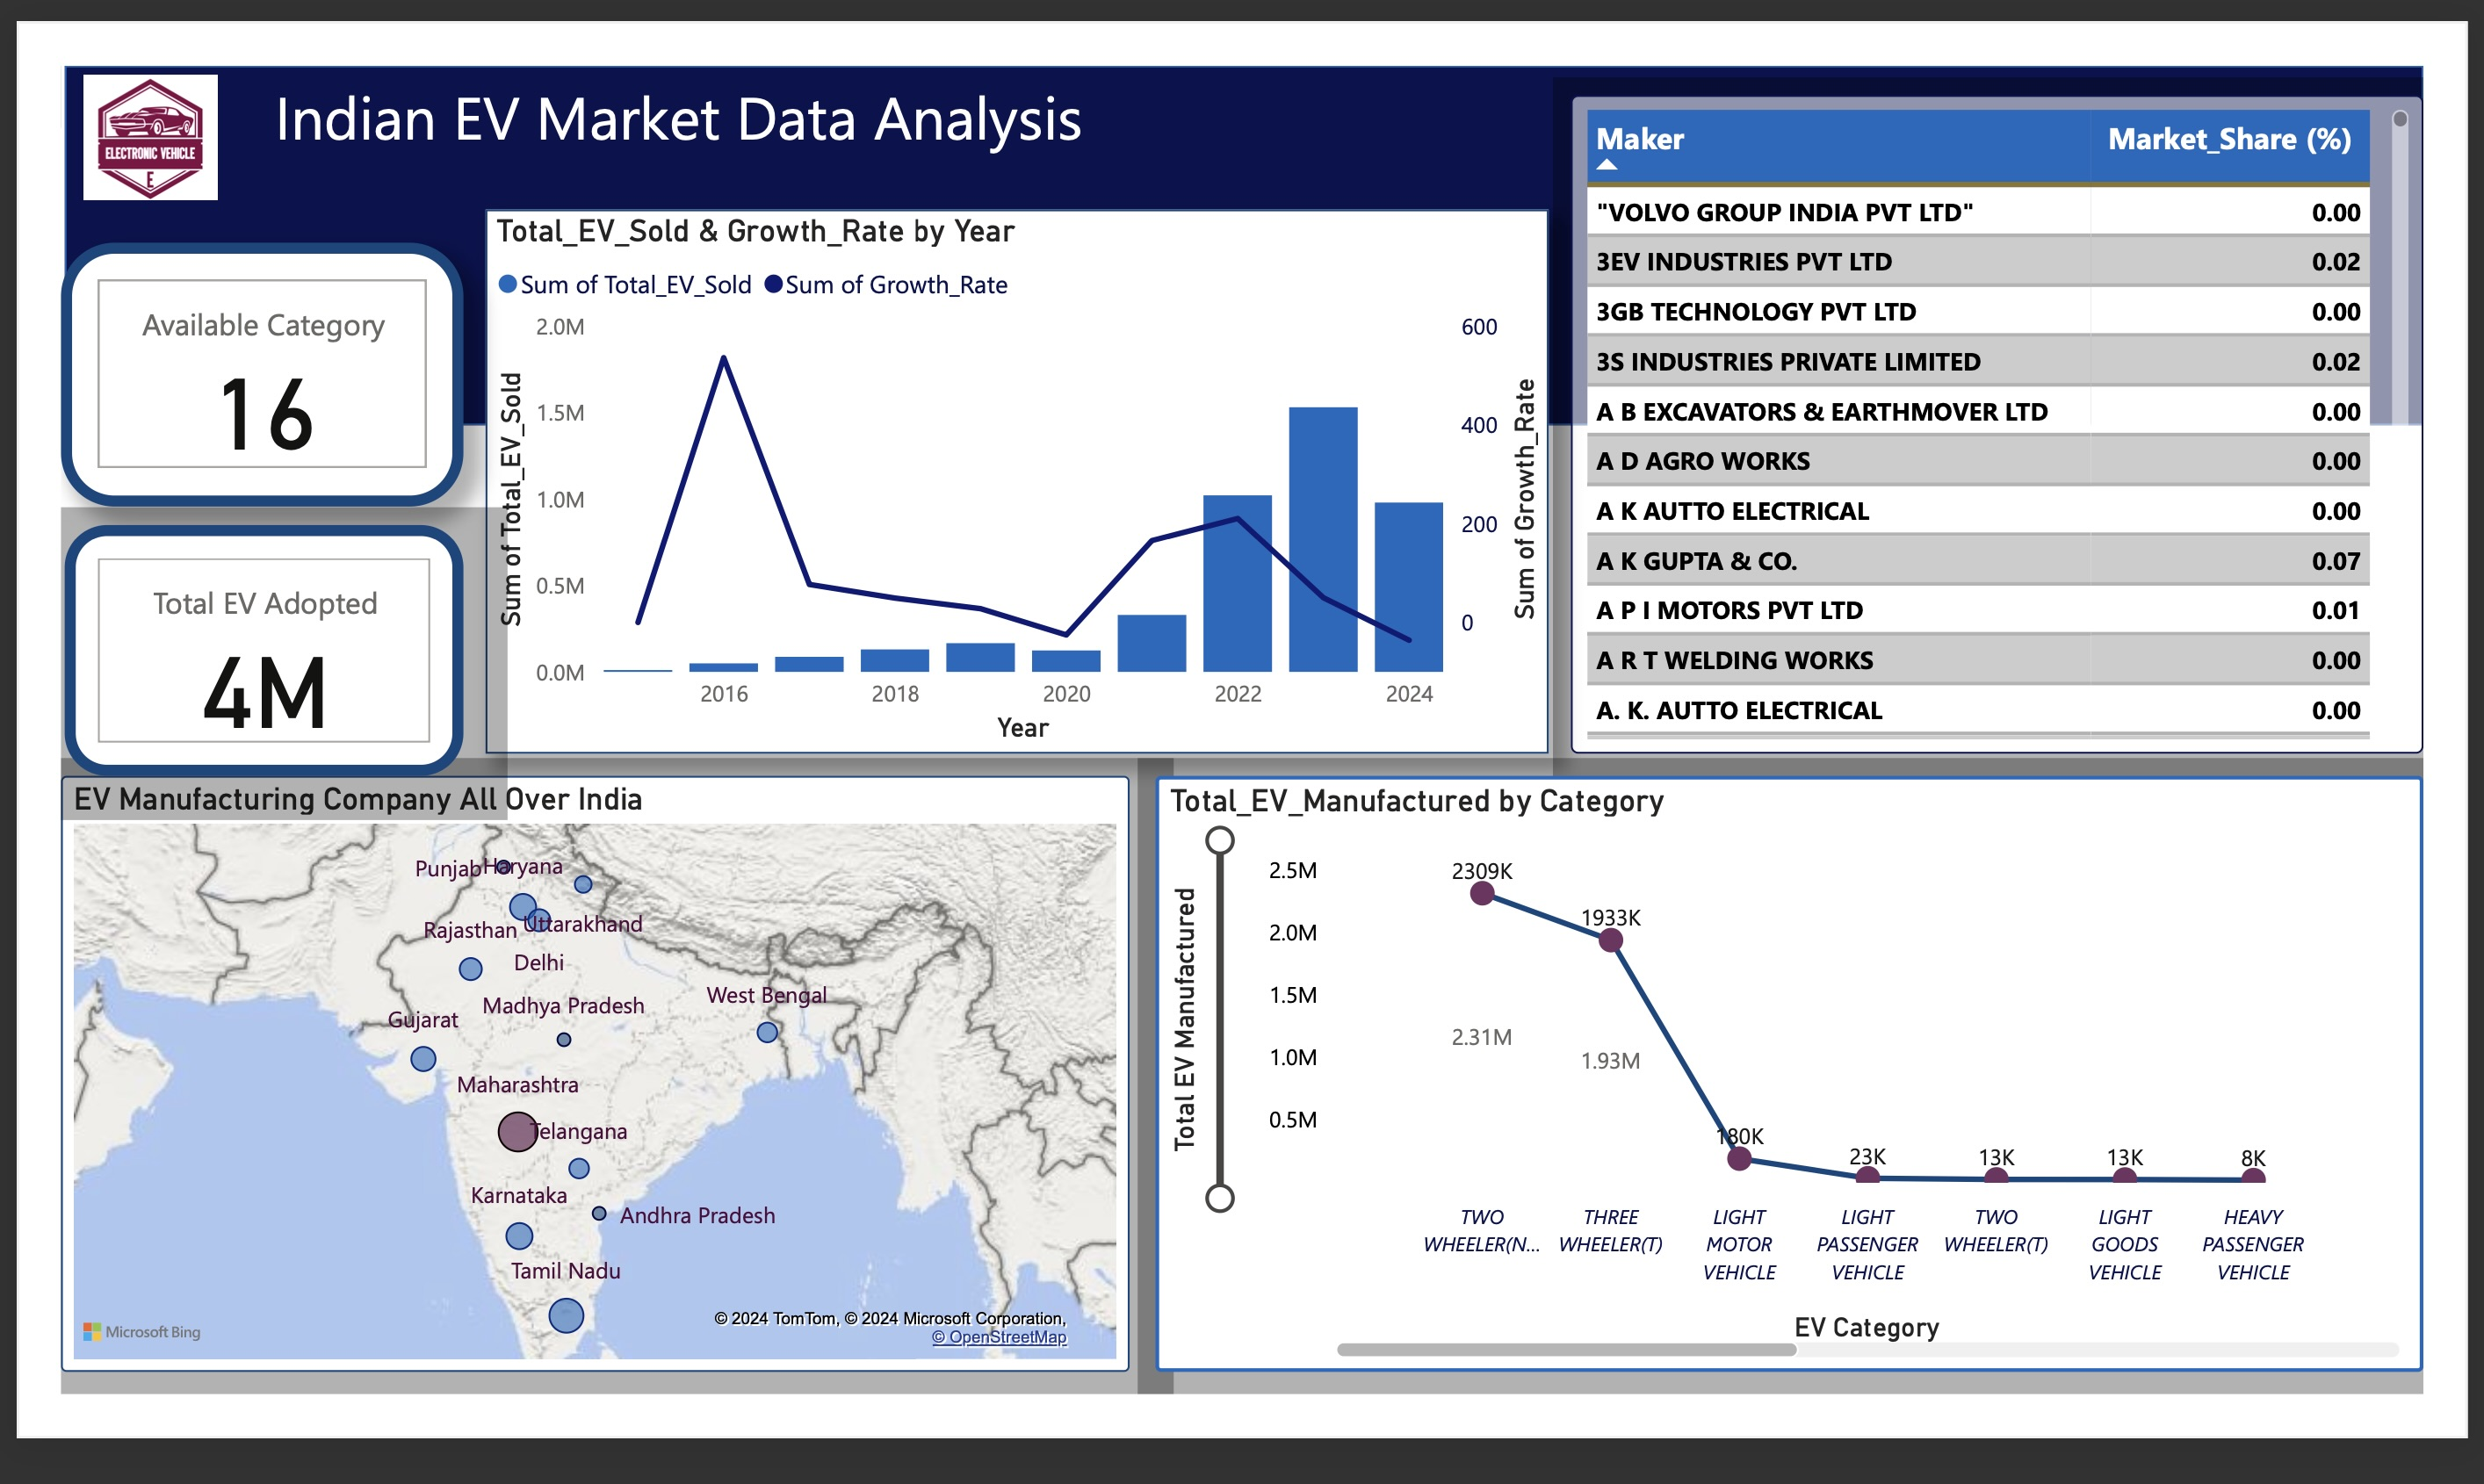

What the dashboard file says about the page in this screenshot:
{"tool":"powerbi","page":{"name":"EV_Data Analysis","canvas":[1280,720],"ordinal":0},"visuals":[{"type":"shape","box":[1.7,0,1278.3,195.3],"z":0},{"type":"image","box":[1.7,0,92.4,78.5],"z":1000},{"type":"lineStackedColumnComboChart","title":"Total_EV_Sold & Growth_Rate by Year","fields":{"Category":["ev_adoption.Year"],"Y":["ev_adoption.Total_EV_Sold"],"Y2":["ev_adoption.Growth_Rate"]},"box":[230.2,78.5,575.5,294.7],"z":2000},{"type":"textbox","box":[76.7,0,516.2,64.5],"z":3000},{"type":"map","title":"EV Manufacturing Company All Over India","fields":{"Category":["geographical_Analysis.State"],"Size":["geographical_Analysis.State_Count"]},"box":[0,385.4,579,322.6],"z":4000},{"type":"tableEx","fields":{"Values":["manufacturer_performance-2.Maker","manufacturer_performance-2.Market_Share (%)"]},"box":[817.9,15.7,462.1,357.5],"z":5000},{"type":"stackedAreaChart","title":"Total_EV_Manufactured by Category","fields":{"Category":["EV_Manufactured by Category.Category"],"Y":["EV_Manufactured by Category.Total_EV_Manufactured"]},"box":[592.9,385.4,687.1,322.6],"z":6000},{"type":"cardVisual","fields":{"Data":["EV_Manufactured by Category.Measure"]},"box":[0,96,218.2,142.5],"z":7000},{"type":"cardVisual","title":"Total EV Sold","fields":{"Data":["ev_adoption.Total EV Adopted"]},"box":[1.7,249.4,216.2,136],"z":8000}]}

Visuals, with their boxes in screenshot pixels (x1, y1, x2, y2):
shape: box(10, 58, 2456, 432)
image: box(10, 58, 186, 208)
"Total_EV_Sold & Growth_Rate by Year" lineStackedColumnComboChart: box(447, 208, 1549, 772)
textbox: box(153, 58, 1141, 182)
"EV Manufacturing Company All Over India" map: box(6, 796, 1115, 1413)
tableEx - manufacturer_performance-2.Maker x manufacturer_performance-2.Market_Share (%): box(1571, 88, 2456, 772)
"Total_EV_Manufactured by Category" stackedAreaChart: box(1141, 796, 2456, 1413)
cardVisual - EV_Manufactured by Category.Measure: box(6, 241, 424, 515)
"Total EV Sold" cardVisual: box(10, 536, 423, 796)
